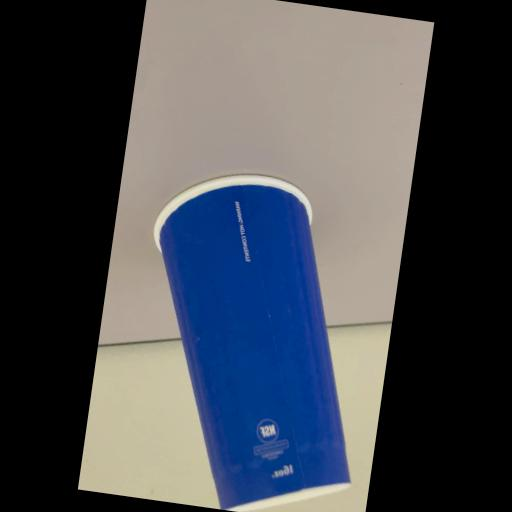lp_paper_cup: (116, 164, 390, 512)
